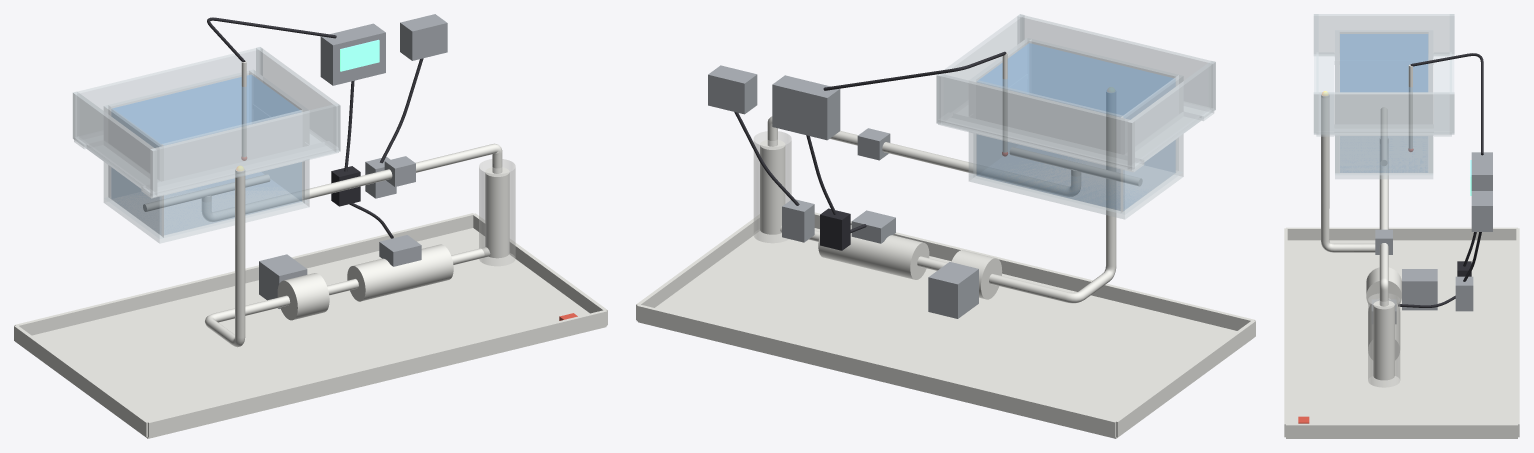
Rendered from system.glb.
3 renders of one model, left to right at view 1: azimuth 30°, elevation 25°; view 2: azimuth 150°, elevation 25°; view 3: azimuth 270°, elevation 25°, orthographic. The views are drawn at different scales.
Visible parts, largest first — view 1: 接液盘底, 内槽药液, 内槽_前, 外槽前, 盘边前, 回路配管, 盘边后, 内槽_后, 外槽后, 内槽_左, 外槽左, 过滤器 (+20 smaller); view 2: 接液盘底, 内槽药液, 内槽_后, 外槽后, 盘边后, 内槽_前, 回路配管, 外槽前, 内槽_左, 外槽左, 盘边前, 温度调节器 (+19 smaller); view 3: 接液盘底, 内槽药液, 内槽_右, 外槽右, 内槽_左, 外槽左, 盘边右, 回路配管, 过滤器, 盘边左, 滤芯, 泵电机 (+19 smaller).
Part boxes in pixels (box(x1,y1,x2,y2)): 接液盘底: box(25, 228, 606, 438); 内槽药液: box(111, 74, 301, 234); 内槽_前: box(162, 110, 304, 237); 外槽前: box(150, 104, 339, 196); 盘边前: box(148, 310, 607, 437); 回路配管: box(202, 143, 502, 347); 盘边后: box(14, 213, 473, 335); 内槽_后: box(108, 71, 251, 198); 外槽后: box(73, 47, 262, 139); 内槽_左: box(104, 105, 163, 238); 外槽左: box(73, 91, 156, 196); 过滤器: box(479, 159, 515, 266); 接液盘底: box(638, 228, 1251, 438); 内槽药液: box(977, 43, 1175, 210); 内槽_后: box(973, 80, 1122, 213); 外槽后: box(937, 74, 1134, 170); 盘边后: box(636, 304, 1116, 437); 内槽_前: box(1029, 39, 1178, 171); 回路配管: box(767, 90, 1116, 303); 外槽前: box(1017, 14, 1215, 111); 内槽_左: box(1121, 75, 1183, 214); 外槽左: box(1128, 61, 1215, 170); 盘边前: box(814, 212, 1255, 330); 温度调节器: box(772, 75, 840, 140); 接液盘底: box(1286, 240, 1517, 438); 内槽药液: box(1340, 34, 1428, 172); 内槽_右: box(1335, 92, 1432, 174); 外槽右: box(1314, 92, 1454, 134); 内槽_左: box(1335, 30, 1432, 91); 外槽左: box(1314, 14, 1454, 55); 盘边右: box(1286, 423, 1517, 437); 回路配管: box(1321, 94, 1388, 306); 过滤器: box(1368, 293, 1400, 387); 盘边左: box(1286, 227, 1517, 240); 滤芯: box(1373, 300, 1394, 380); 泵电机: box(1402, 269, 1437, 310).
Bounding box in the file's own units: 2.62 × 1.62 × 1.32.
